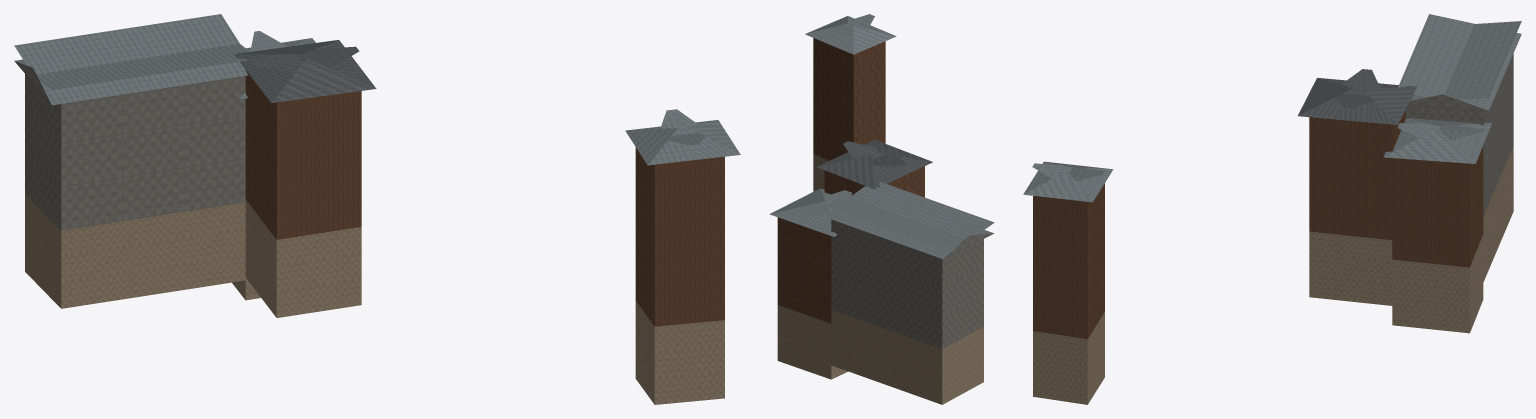
Rendered from bld_c9_26_409.gltf.
3 renders of one model, left to right at view 1: azimuth 30°, elevation 25°; view 2: azimuth 150°, elevation 25°; view 3: azimuth 270°, elevation 25°, orthographic. The views are drawn at different scales.
Parts seen in each view (by area): view 1: bld_c9_26_409; view 2: bld_c9_26_409; view 3: bld_c9_26_409.
Boxes of the visible parts, x1,y1,x2,y2 form: bld_c9_26_409: (14, 14, 740, 404); bld_c9_26_409: (769, 14, 994, 404); bld_c9_26_409: (1023, 14, 1521, 404).
Size of the model in its own units: 31.79 by 17.1 by 35.07.
Materials: 6 (6 with a texture image).
